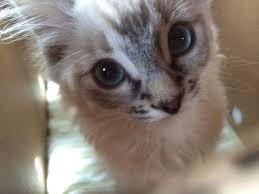Cat: (39, 0, 219, 121)
